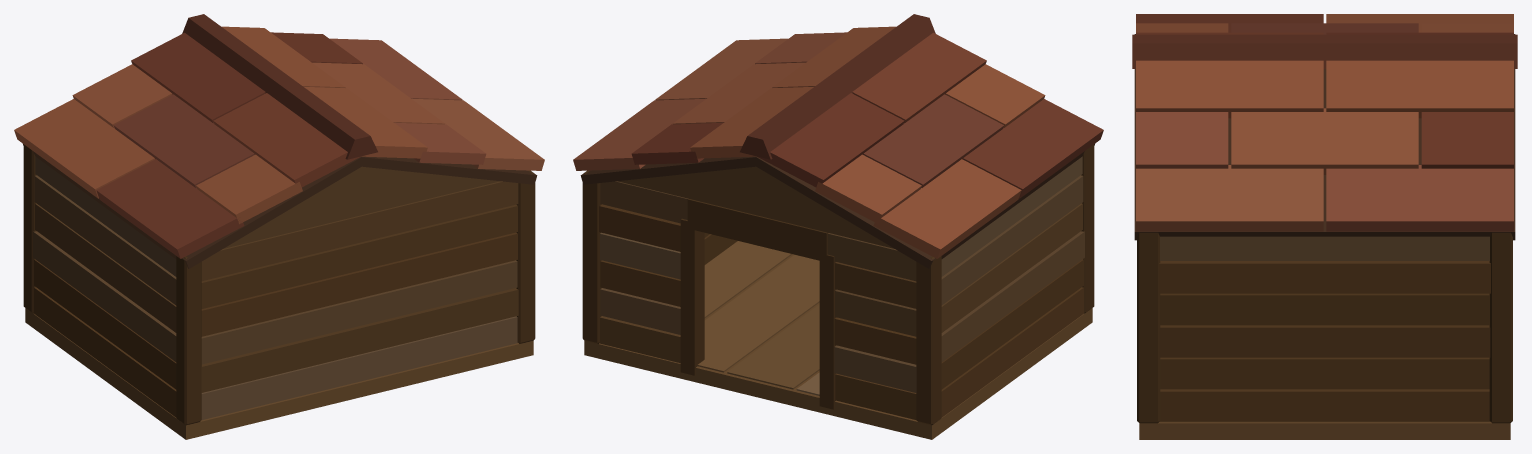
The model's file is Shed.glb.
3 views of the same model, side by side, from view 1: azimuth 30°, elevation 25°; view 2: azimuth 150°, elevation 25°; view 3: azimuth 270°, elevation 25° (orthographic). The views are drawn at different scales.
Visible parts, largest first — view 1: Body, Roof; view 2: Body, Roof; view 3: Roof, Body.
Boxes of the visible parts, x1,y1,x2,y2 form: Body: [23, 144, 535, 439]; Roof: [14, 14, 544, 268]; Body: [582, 144, 1094, 439]; Roof: [573, 14, 1103, 268]; Roof: [1132, 14, 1517, 240]; Body: [1137, 232, 1512, 439].
Size of what is drawn, in the model's own units: 10.57 by 7.2 by 8.3.
